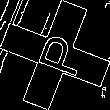P_W: (25, 29, 85, 81)
